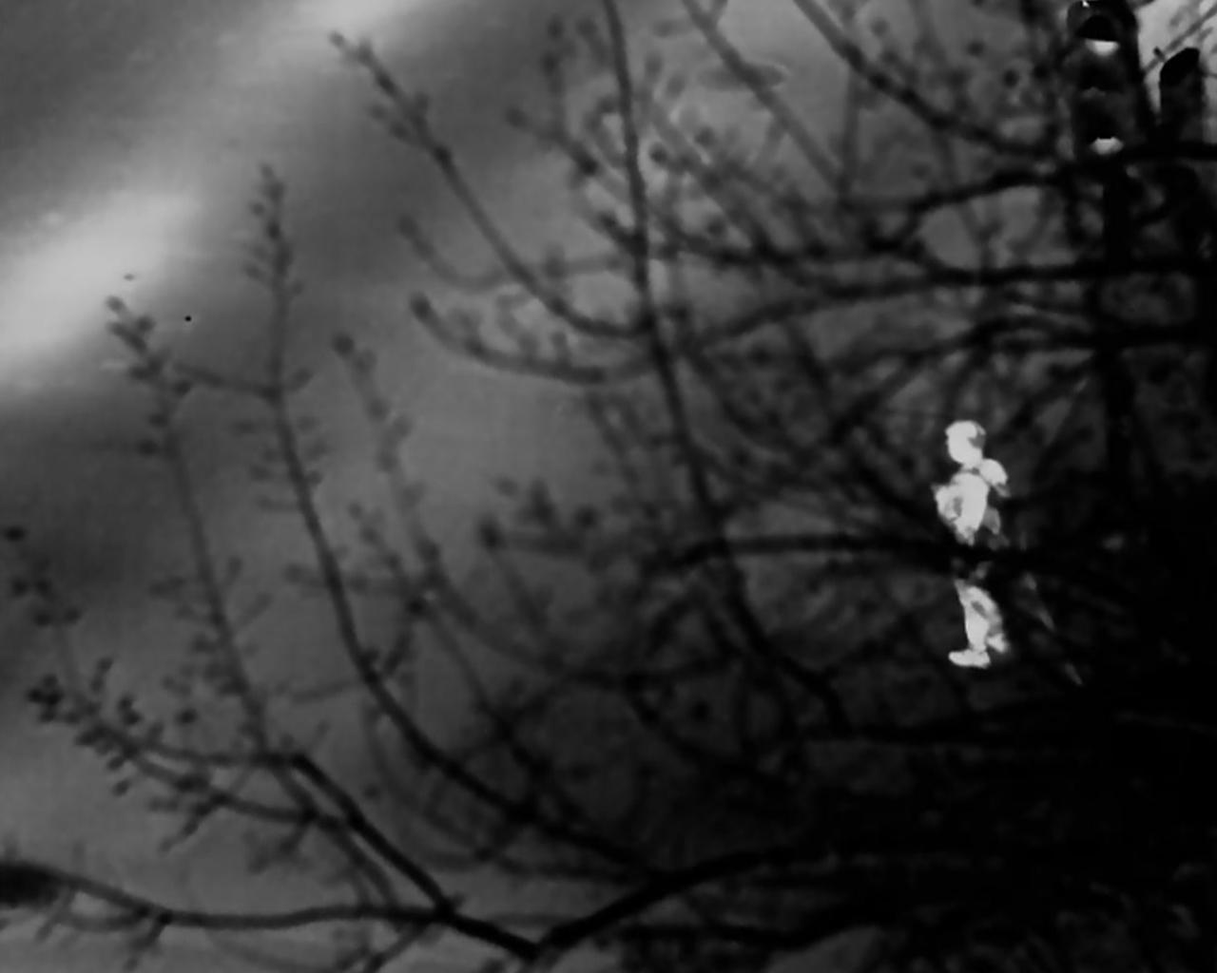person: (931, 416, 1011, 666)
